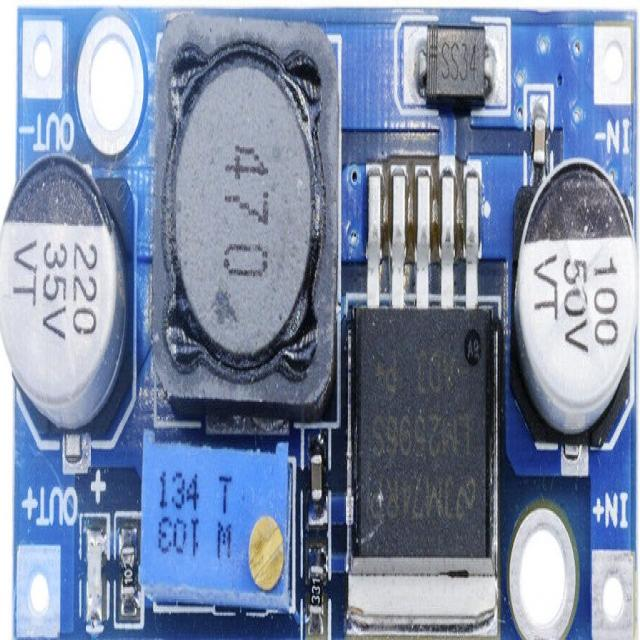IC: (351, 167, 495, 591)
capacitor 1V5: (514, 158, 638, 447), (0, 167, 130, 437), (526, 110, 545, 176), (308, 448, 321, 508)
diode -D1-: (418, 29, 497, 104)
inductor F1: (155, 25, 331, 411)
potentiometer POT1: (145, 437, 298, 615)
resistor IR1: (120, 514, 133, 612), (307, 557, 321, 631)
